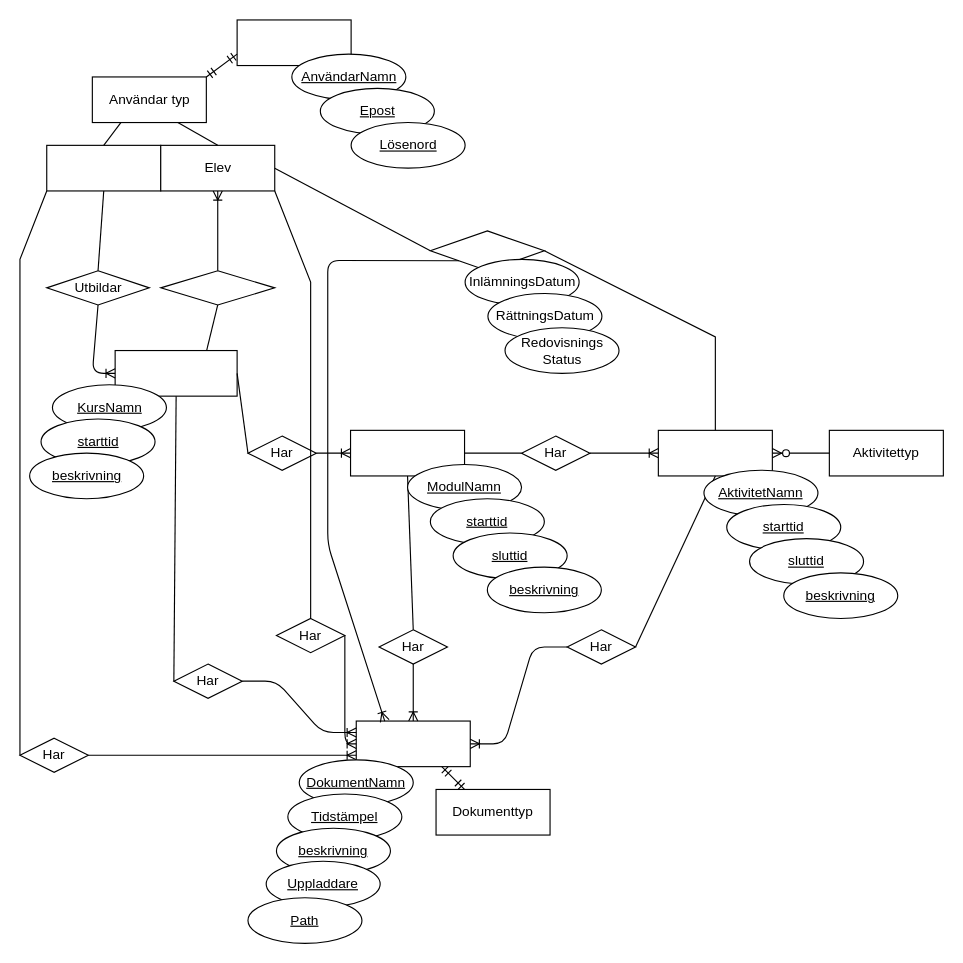
Image size: 963x963. Some labels were removed from this diagram. The shapes that lost their labels are listed below. From the top down, each one's centre as x and y in pixels, then its label:
At point 293,42: "Användare".
At point 103,167: "Lärare".
At point 486,250: "Redovisa".
At point 217,287: "Deltar".
At point 175,372: "Kurs".
At point 407,452: "Modul".
At point 714,452: "Aktivitet".
At point 412,743: "Dokument".
